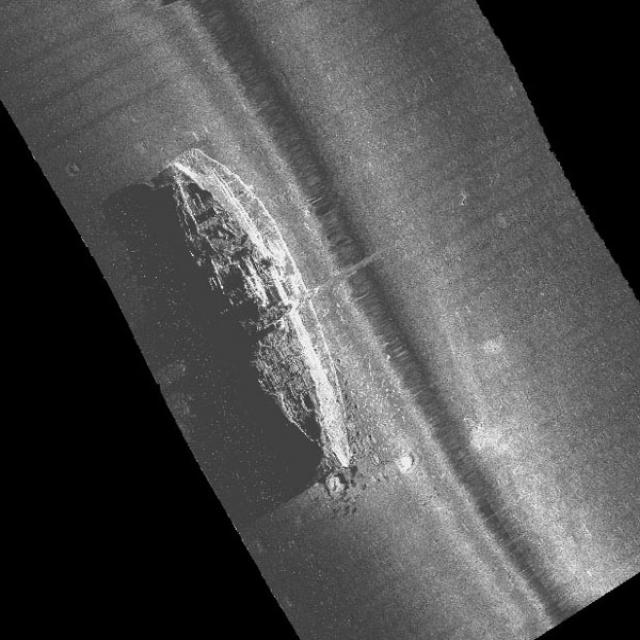ship: (152, 149, 364, 468)
